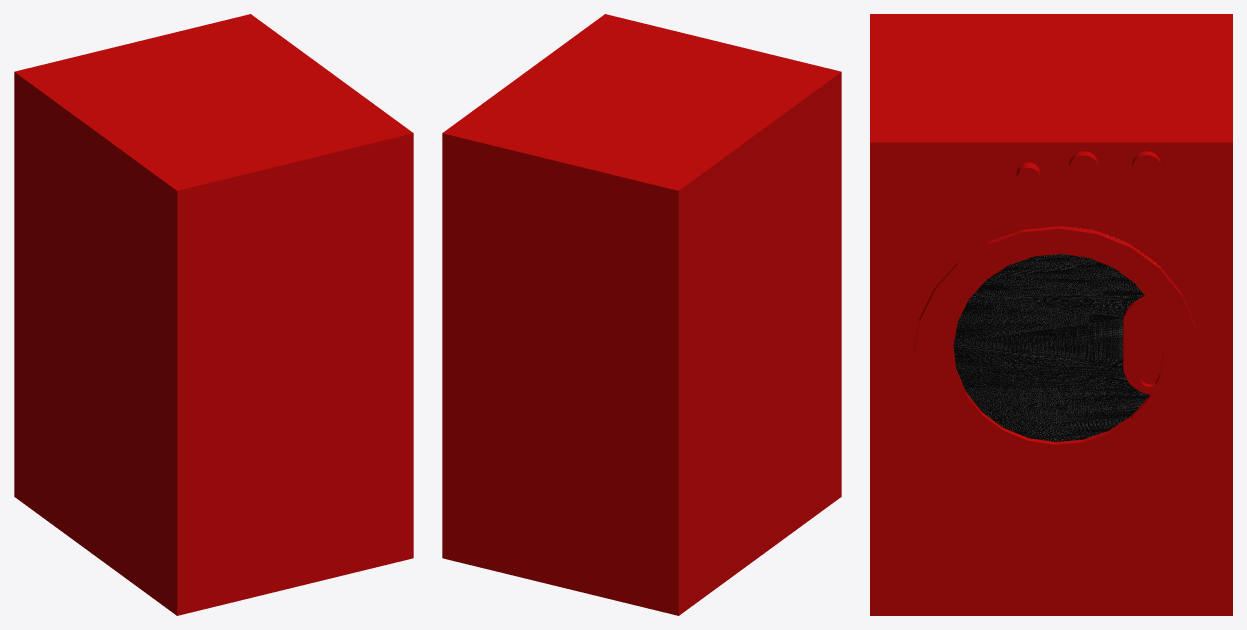
3 views of the same model, side by side, from view 1: azimuth 30°, elevation 25°; view 2: azimuth 150°, elevation 25°; view 3: azimuth 270°, elevation 25° (orthographic). The views are drawn at different scales.
Parts seen in each view (by area): view 1: mesh21_mesh21-geometry; view 2: mesh21_mesh21-geometry; view 3: mesh21_mesh21-geometry.
Boxes of the visible parts, x1=… form: mesh21_mesh21-geometry: x1=14, y1=14, x2=413, y2=615; mesh21_mesh21-geometry: x1=442, y1=14, x2=841, y2=615; mesh21_mesh21-geometry: x1=870, y1=14, x2=1232, y2=615.
Size of the model in its own units: 0.4462 by 0.735 by 0.5106.
